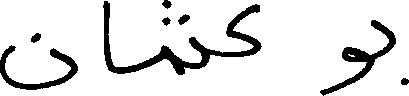ا: (103, 0, 113, 73)
ب: (371, 18, 407, 85)
ث: (161, 0, 208, 75)
ع: (226, 2, 261, 57)
م: (158, 41, 185, 78)
ن: (0, 31, 77, 91)
و: (318, 18, 372, 94)
